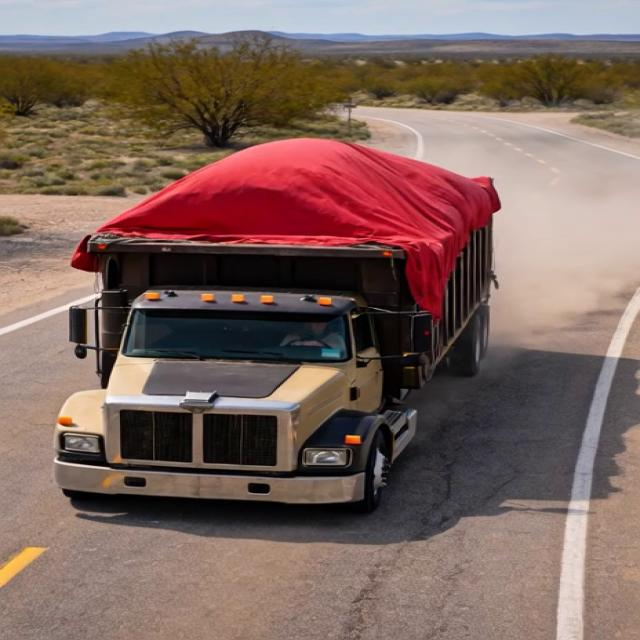trailer: (100, 136, 498, 256)
truck: (45, 87, 512, 520)
